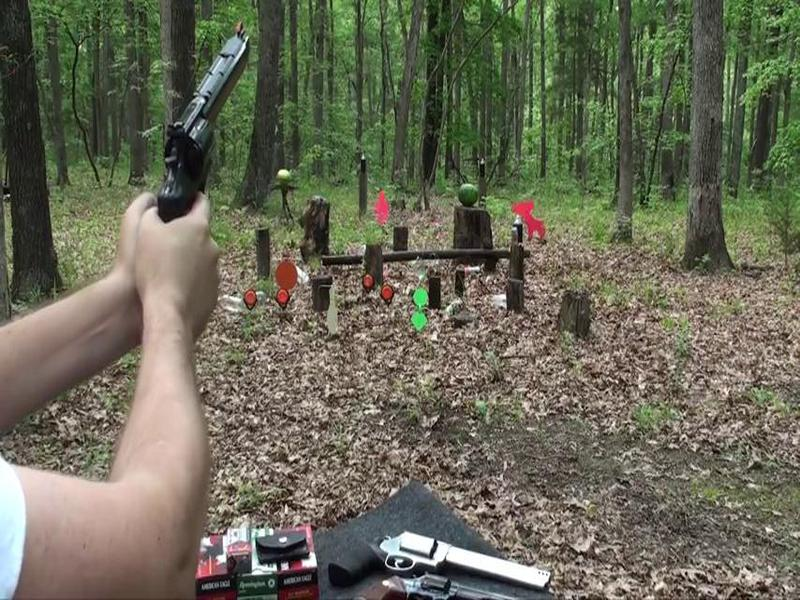Revolver: (130, 24, 275, 262)
